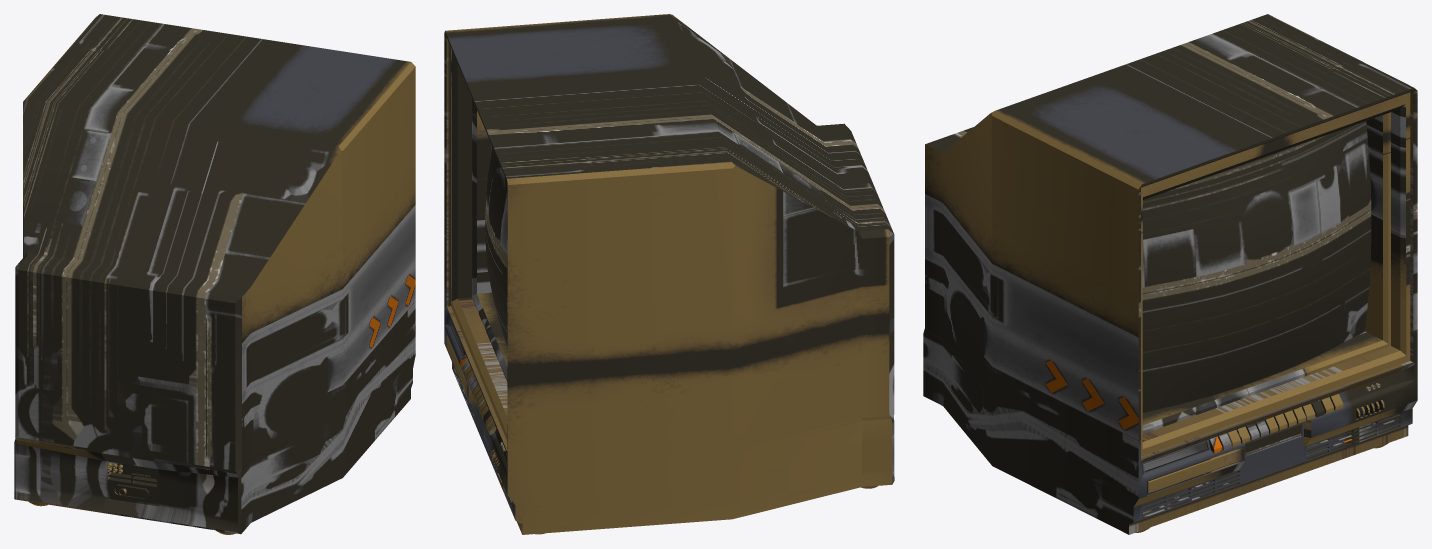
Rendered from televison 1.fbx.
The picture shows the model from 3 angles, left to right: view 1: azimuth 30°, elevation 25°; view 2: azimuth 150°, elevation 25°; view 3: azimuth 270°, elevation 25°; orthographic projection. The views are drawn at different scales.
Visible parts, largest first — view 1: TV , Old TV , Retro TV; view 2: TV , Old TV , Retro TV; view 3: TV , Old TV , Retro TV.
Part boxes in pixels (box(x1,y1,x2,y2)): TV , Old TV , Retro TV: box(14, 14, 415, 534); TV , Old TV , Retro TV: box(444, 14, 894, 534); TV , Old TV , Retro TV: box(923, 14, 1417, 534).
Size of the model in its own units: 150 by 118 by 147.
